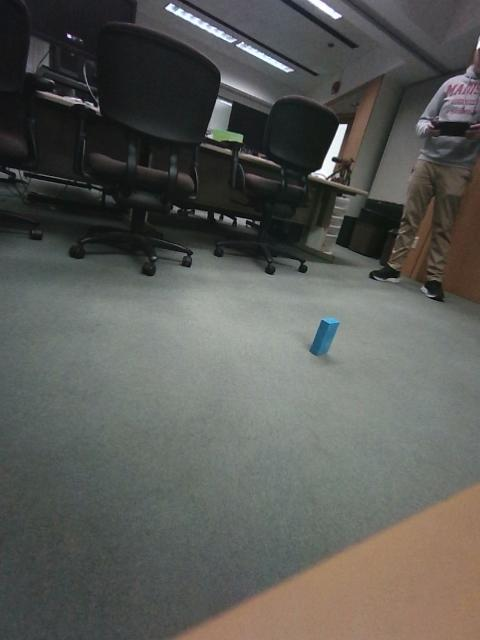block: (198, 412, 265, 513)
